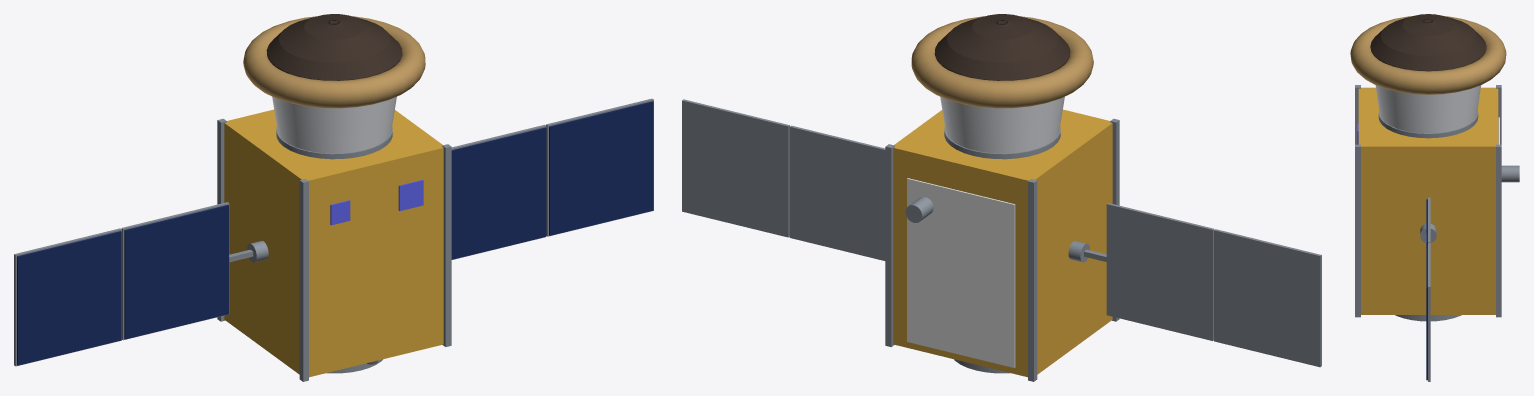
Rendered from SP-MECH.glb.
The picture shows the model from 3 angles, left to right: view 1: azimuth 30°, elevation 25°; view 2: azimuth 150°, elevation 25°; view 3: azimuth 270°, elevation 25°; orthographic projection. The views are drawn at different scales.
Parts seen in each view (by area): view 1: service_module_structure, solar_panel_-X2, solar_panel_+X2, solar_panel_-X1, solar_panel_+X1, nose, heat_shield_packed, capsule_backshell, corner_rail_-X-Y, corner_rail_+X-Y, panel_frame_+X2, panel_frame_-X2 (+4 smaller); view 2: service_module_structure, radiator_+Y_face, panel_frame_-X2, panel_frame_+X2, panel_frame_-X1, panel_frame_+X1, nose, heat_shield_packed, capsule_backshell, corner_rail_-X+Y, corner_rail_+X+Y, separation_interface (+1 smaller); view 3: service_module_structure, nose, heat_shield_packed, capsule_backshell, corner_rail_+X-Y, corner_rail_+X+Y, separation_interface, panel_frame_+X2, star_tracker, launch_separation_ring, solar_panel_+X2, corner_rail_-X+Y (+2 smaller).
Part boxes in pixels (x1=…): service_module_structure: x1=224, y1=109, x2=443, y2=377; solar_panel_-X2: x1=17, y1=231, x2=121, y2=365; solar_panel_+X2: x1=549, y1=101, x2=653, y2=235; solar_panel_-X1: x1=124, y1=205, x2=228, y2=339; solar_panel_+X1: x1=451, y1=127, x2=546, y2=259; nose: x1=266, y1=14, x2=402, y2=80; heat_shield_packed: x1=243, y1=16, x2=425, y2=108; capsule_backshell: x1=272, y1=96, x2=396, y2=153; corner_rail_-X-Y: x1=299, y1=179, x2=308, y2=381; corner_rail_+X-Y: x1=442, y1=144, x2=451, y2=346; panel_frame_+X2: x1=546, y1=98, x2=653, y2=236; panel_frame_-X2: x1=14, y1=228, x2=121, y2=366; service_module_structure: x1=893, y1=109, x2=1112, y2=377; radiator_+Y_face: x1=907, y1=178, x2=1015, y2=367; panel_frame_-X2: x1=1214, y1=229, x2=1321, y2=367; panel_frame_+X2: x1=682, y1=99, x2=789, y2=237; panel_frame_-X1: x1=1106, y1=203, x2=1214, y2=340; panel_frame_+X1: x1=789, y1=125, x2=885, y2=260; nose: x1=934, y1=14, x2=1070, y2=80; heat_shield_packed: x1=911, y1=16, x2=1093, y2=108; capsule_backshell: x1=940, y1=96, x2=1064, y2=153; corner_rail_-X+Y: x1=1028, y1=179, x2=1037, y2=381; corner_rail_+X+Y: x1=885, y1=144, x2=894, y2=347; separation_interface: x1=944, y1=126, x2=1060, y2=159; service_module_structure: x1=1358, y1=87, x2=1498, y2=314; nose: x1=1370, y1=14, x2=1486, y2=71; heat_shield_packed: x1=1350, y1=16, x2=1506, y2=94; capsule_backshell: x1=1375, y1=85, x2=1481, y2=133; corner_rail_+X-Y: x1=1355, y1=144, x2=1360, y2=317; corner_rail_+X+Y: x1=1496, y1=144, x2=1501, y2=317; separation_interface: x1=1378, y1=110, x2=1478, y2=138; panel_frame_+X2: x1=1428, y1=242, x2=1430, y2=381; star_tracker: x1=1501, y1=165, x2=1519, y2=182; launch_separation_ring: x1=1395, y1=315, x2=1461, y2=321; solar_panel_+X2: x1=1426, y1=244, x2=1427, y2=380; corner_rail_-X+Y: x1=1496, y1=85, x2=1501, y2=144.
Bounding box in the file's own units: 2.67 × 1.32 × 0.716.
